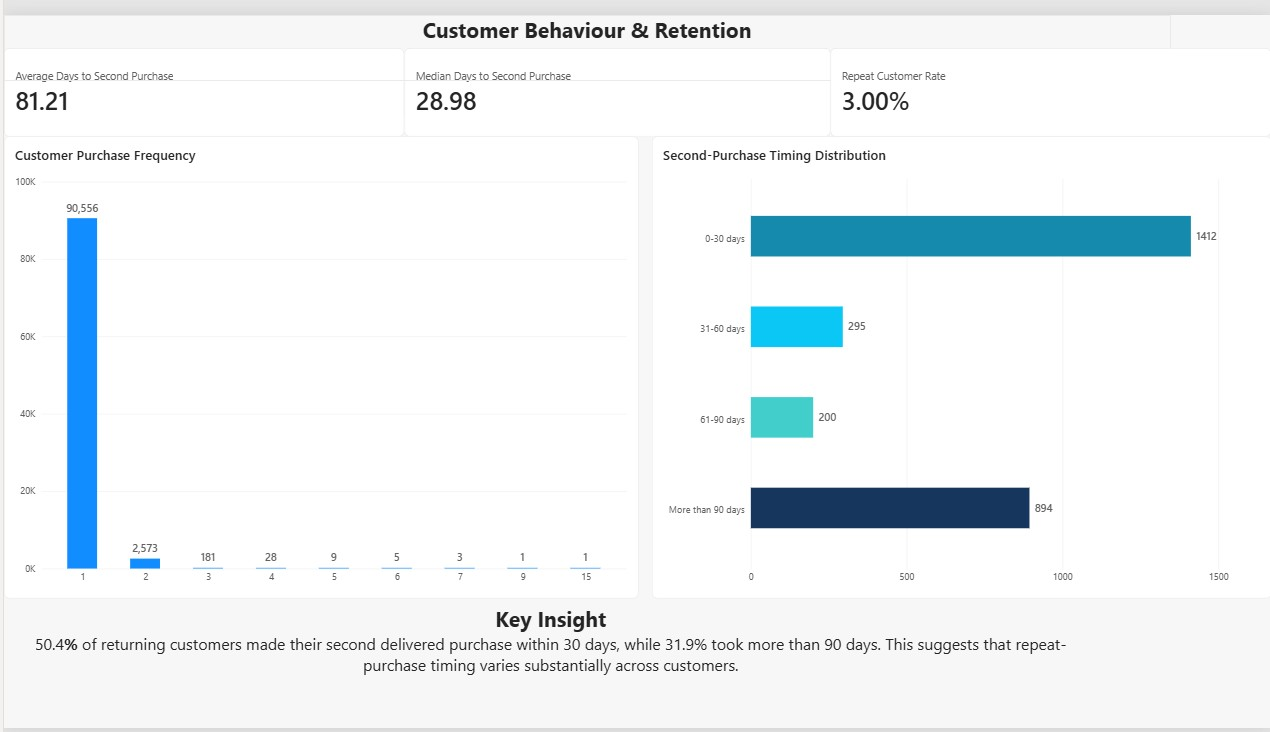

Layout of this report page (visuals, bound fields, positions):
{"tool":"powerbi","page":{"name":"Customer Behaviour & Retention","canvas":[1920,1080],"ordinal":1},"visuals":[{"type":"clusteredColumnChart","title":"Customer Purchase Frequency","fields":{"Category":["public customer_segments.total_orders"],"Y":["public customer_segments.Total Customers"]},"box":[0,184,960.8,699.6],"z":0},{"type":"cardVisual","fields":{"Data":["Sum(public second_purchase_metrics.average_days_to_second_purchase)"]},"box":[0,50,606.4,134],"z":1000},{"type":"cardVisual","fields":{"Data":["Sum(public second_purchase_metrics.median_days_to_second_purchase)"]},"box":[606.4,50,645.1,134],"z":2000},{"type":"textbox","box":[0,0,1766,100],"z":3000},{"type":"clusteredBarChart","title":"Second-Purchase Timing Distribution","fields":{"Category":["public second_purchase_timing.purchase_timing_group"],"Y":["Sum(public second_purchase_timing.total_customers)"]},"box":[981.2,184,938,699.6],"z":4000},{"type":"cardVisual","fields":{"Data":["public customer_segments.Repeat Customer Rate"]},"box":[1251.5,50,667.8,134],"z":4001},{"type":"textbox","box":[0,892.6,1655.8,186.2],"z":4002}]}

Visuals, with their boxes in screenshot pixels (x1, y1, x2, y2), scaled from the page's 1920x1080 canvas onto the 1270x732 screenshot:
"Customer Purchase Frequency" clusteredColumnChart: Rect(0, 125, 636, 599)
cardVisual - Sum(public second_purchase_metrics.average_days_to_second_purchase): Rect(0, 34, 401, 125)
cardVisual - Sum(public second_purchase_metrics.median_days_to_second_purchase): Rect(401, 34, 828, 125)
textbox: Rect(0, 0, 1168, 68)
"Second-Purchase Timing Distribution" clusteredBarChart: Rect(649, 125, 1269, 599)
cardVisual - public customer_segments.Repeat Customer Rate: Rect(828, 34, 1269, 125)
textbox: Rect(0, 605, 1095, 731)
